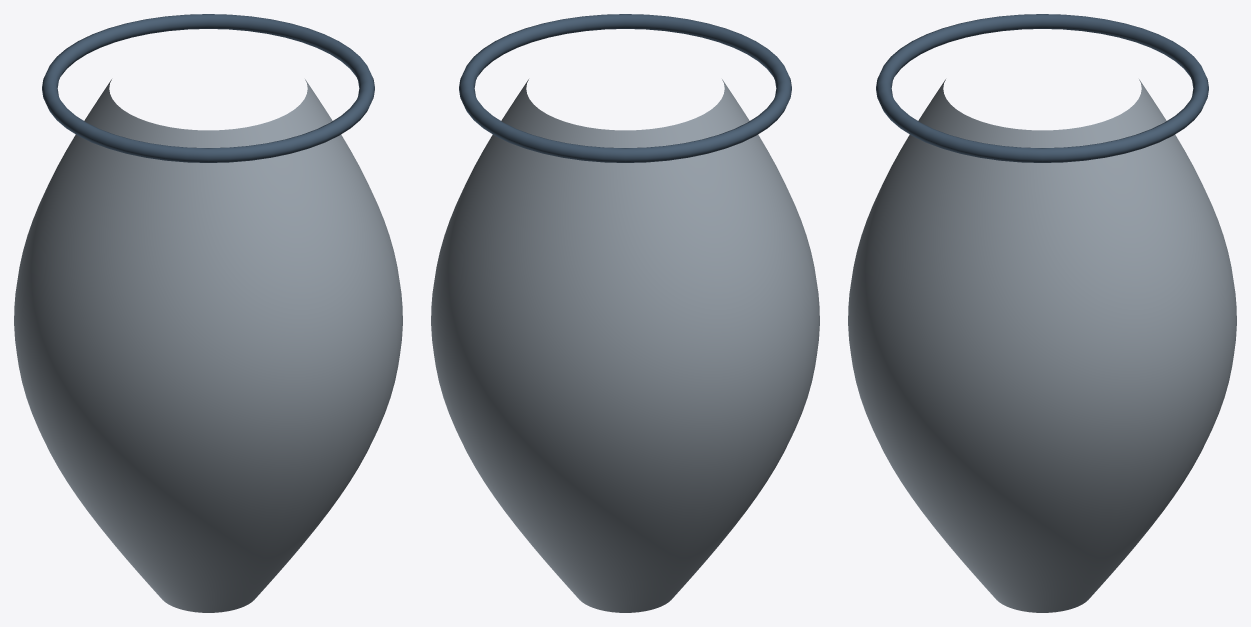
Rendered from cooling_tower.glb.
3 renders of one model, left to right at view 1: azimuth 30°, elevation 25°; view 2: azimuth 150°, elevation 25°; view 3: azimuth 270°, elevation 25°, orthographic.
Bounding box in the file's own units: 19.6 × 28.4 × 19.6.
